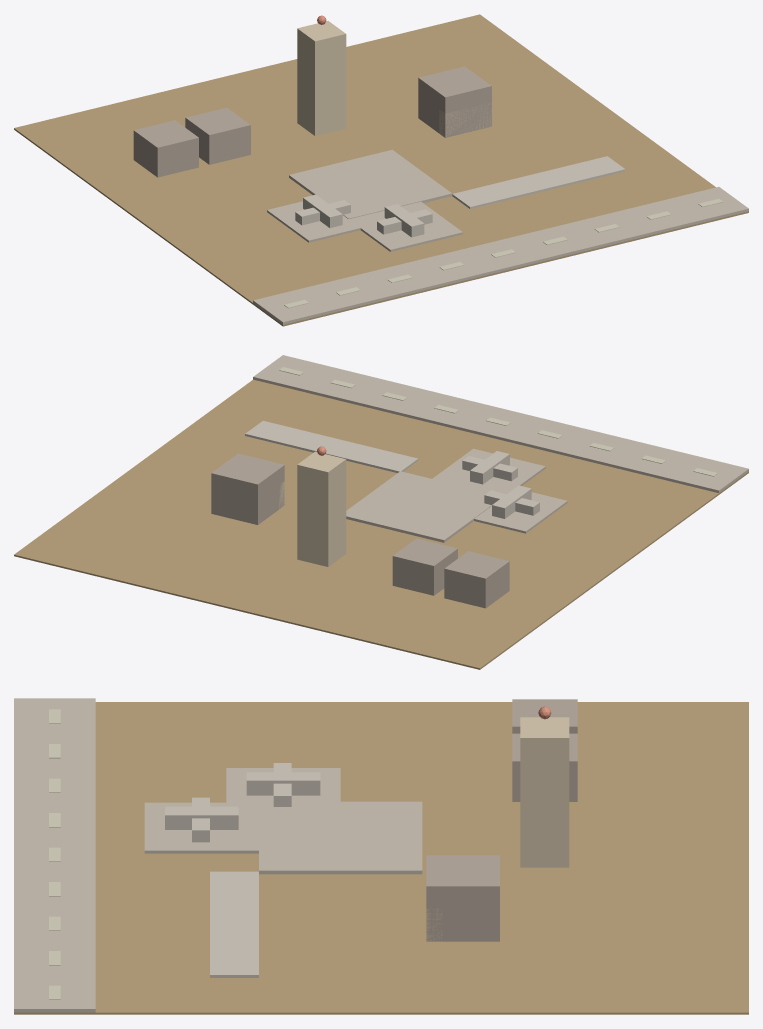
File: stage_08.glb
3 renders of one model, top to bottom at view 1: azimuth 30°, elevation 25°; view 2: azimuth 150°, elevation 25°; view 3: azimuth 270°, elevation 25°, orthographic. The views are drawn at different scales.
Visible parts, largest first — view 1: geometry_0; view 2: geometry_0; view 3: geometry_0.
Boxes of the visible parts, x1,y1,x2,y2 form: geometry_0: (14, 14, 748, 326); geometry_0: (14, 355, 748, 669); geometry_0: (14, 698, 748, 1014).
Size of the model in its own units: 9 by 2.06 by 9.
